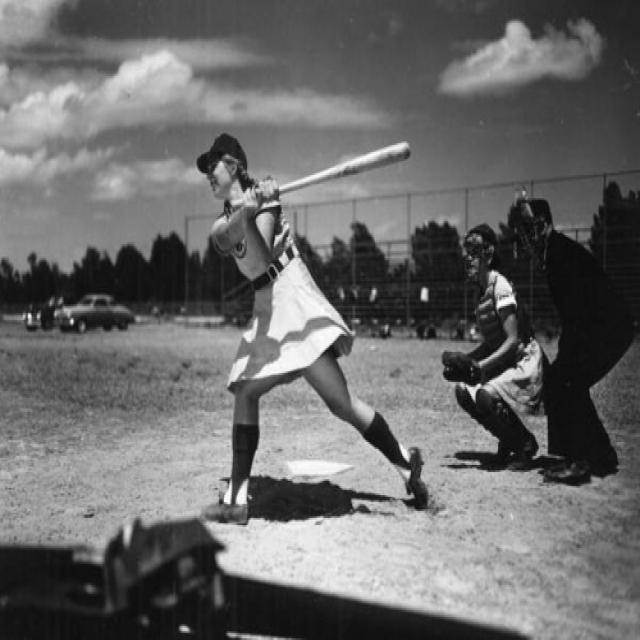Vehicle: (54, 296, 134, 332), (22, 295, 68, 332)
